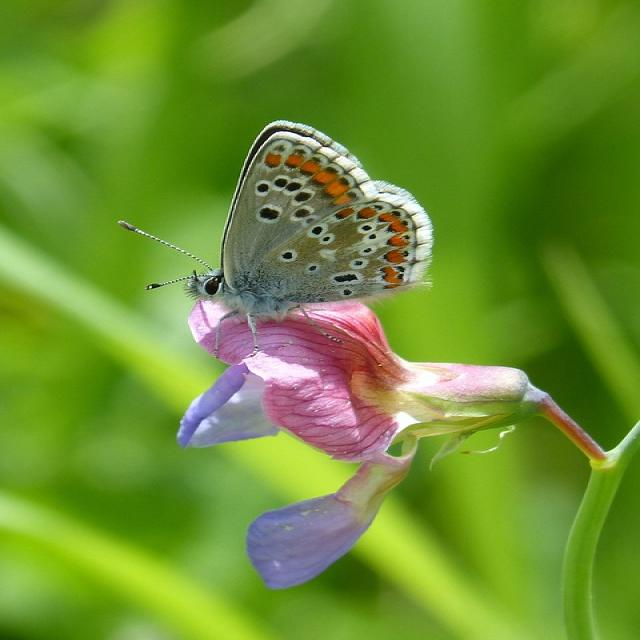butterfly: (209, 121, 433, 342)
